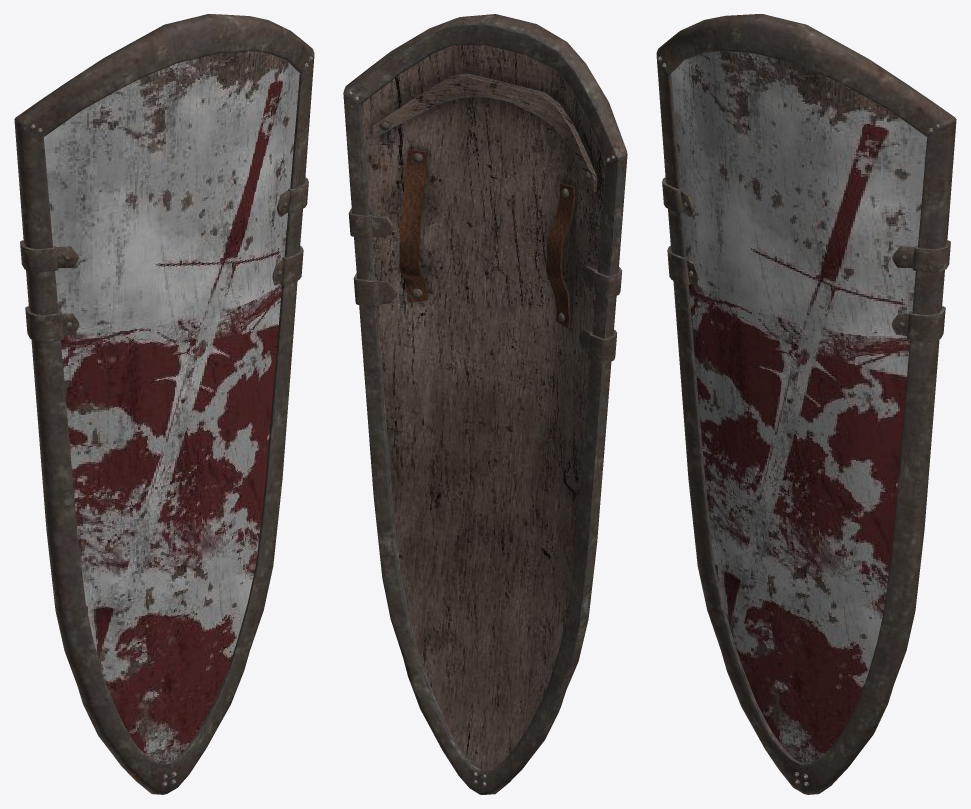
File: natural-shield-clear.glb
The picture shows the model from 3 angles, left to right: view 1: azimuth 30°, elevation 25°; view 2: azimuth 150°, elevation 25°; view 3: azimuth 330°, elevation 25°; orthographic projection. The views are drawn at different scales.
Visible parts, largest first — view 1: natural-shield-clear runtime mesh; view 2: natural-shield-clear runtime mesh; view 3: natural-shield-clear runtime mesh.
Boxes of the visible parts, x1=… form: natural-shield-clear runtime mesh: x1=14, y1=14, x2=314, y2=794; natural-shield-clear runtime mesh: x1=343, y1=14, x2=627, y2=794; natural-shield-clear runtime mesh: x1=656, y1=14, x2=956, y2=794.
Size of the model in its own units: 0.3273 by 0.84 by 0.0812.
Materials: 2 (2 with a texture image).
